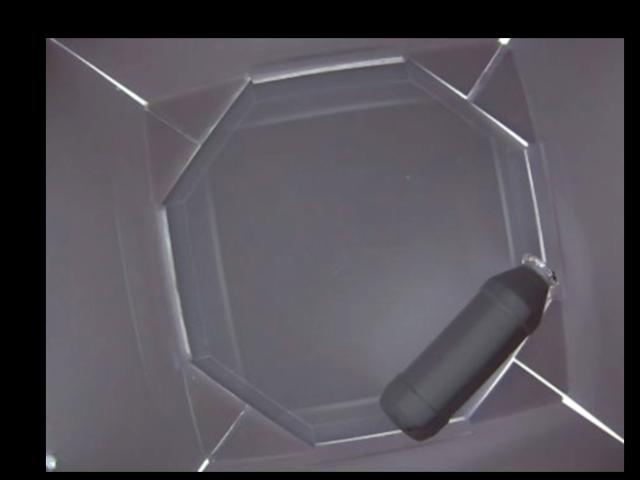Bottle: (381, 254, 560, 440)
